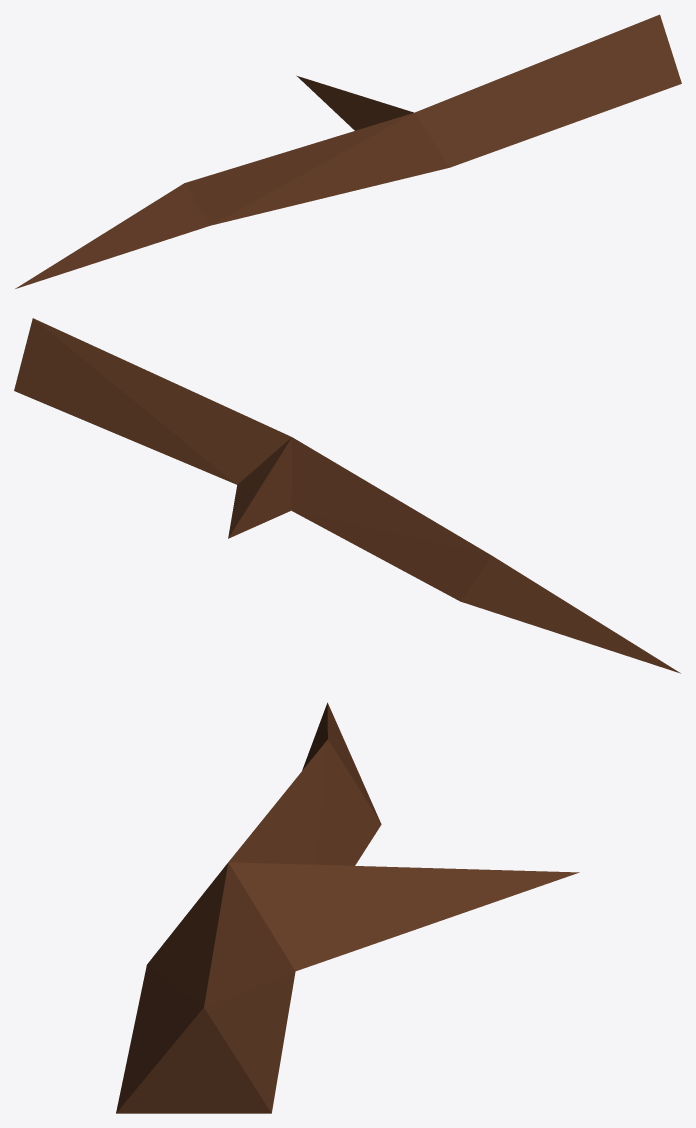
File: PineBranch2.fbx
3 views of the same model, one above another, from view 1: azimuth 30°, elevation 25°; view 2: azimuth 150°, elevation 25°; view 3: azimuth 270°, elevation 25° (orthographic). The views are drawn at different scales.
Parts seen in each view (by area): view 1: PineBranch2; view 2: PineBranch2; view 3: PineBranch2.
Part boxes in pixels (<box>): PineBranch2: <box>15,14,681,288</box>; PineBranch2: <box>14,318,680,673</box>; PineBranch2: <box>116,702,579,1113</box>.
Size of the model in its own units: 116 by 26.55 by 37.84.
